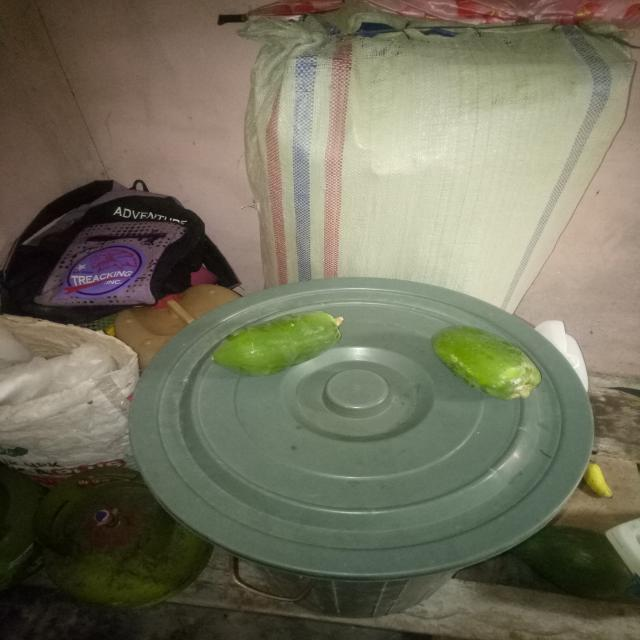Pepaya unrippen: (427, 322, 546, 410), (206, 306, 358, 374)
